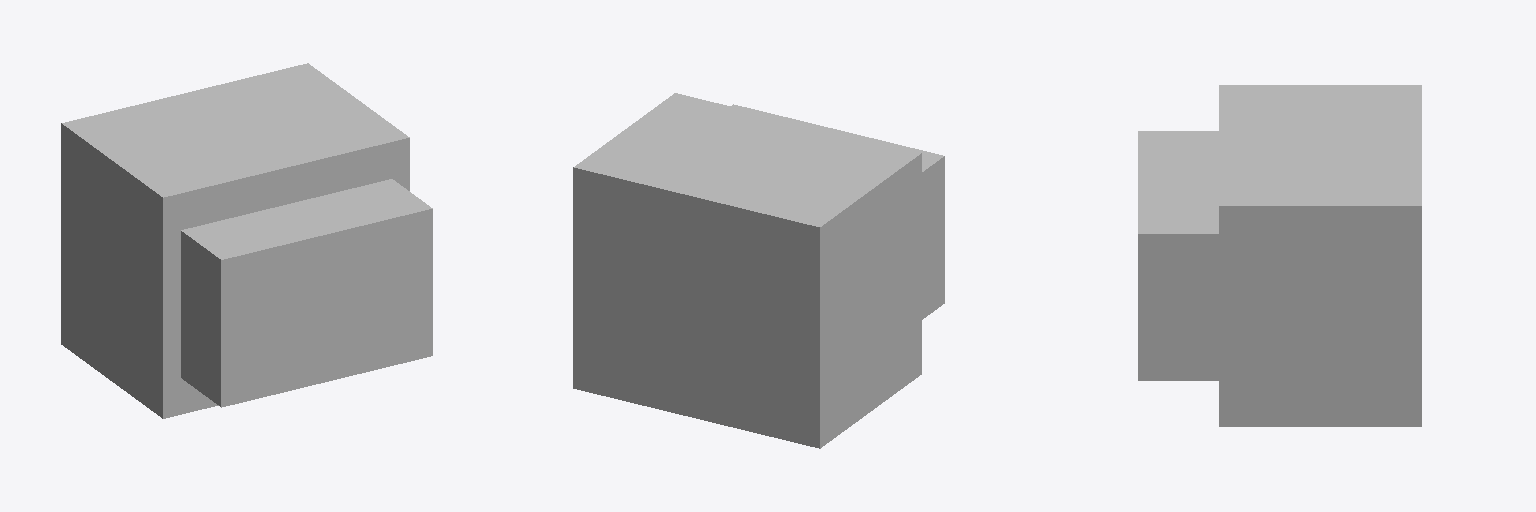
File: player.obj
3 views of the same model, side by side, from view 1: azimuth 30°, elevation 25°; view 2: azimuth 150°, elevation 25°; view 3: azimuth 270°, elevation 25° (orthographic).
Parts seen in each view (by area): view 1: cuboid; view 2: cuboid; view 3: cuboid.
Boxes of the visible parts, box(x1,y1,x2,y2) form: cuboid: box(61, 63, 432, 418); cuboid: box(573, 93, 944, 448); cuboid: box(1138, 85, 1421, 426).
Size of the model in its own units: 0.875 by 0.75 by 0.875.